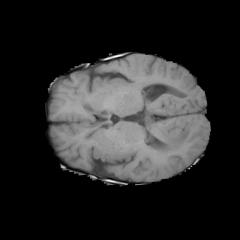glioma: (149, 124, 189, 153)
